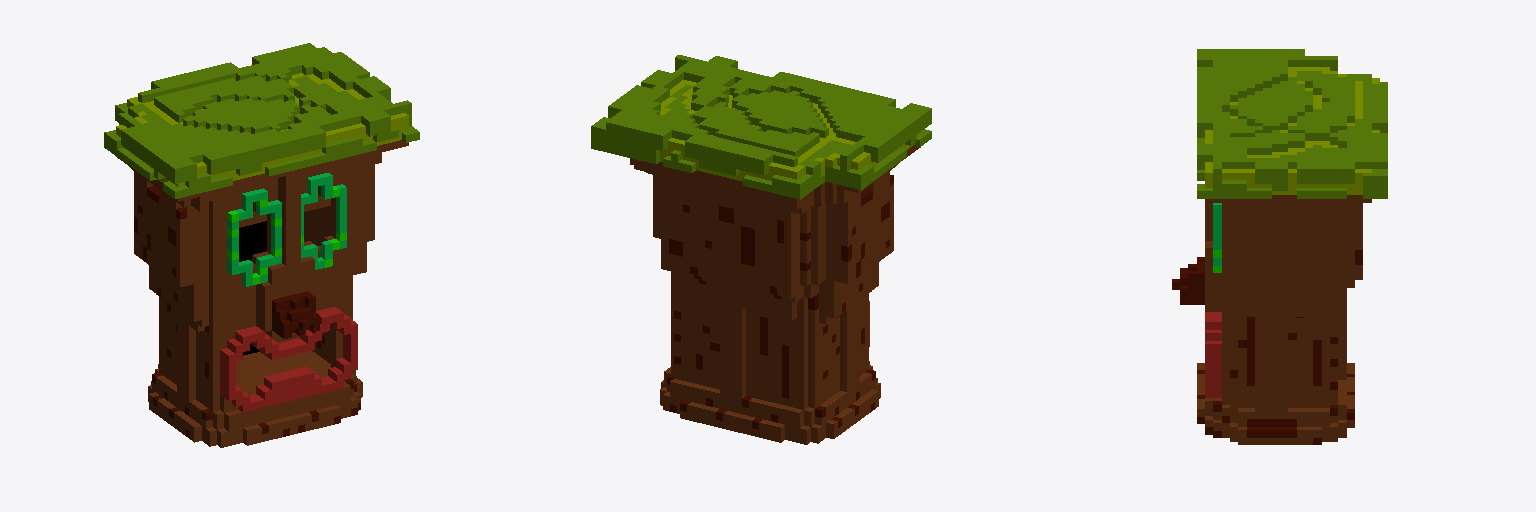
3 views of the same model, side by side, from view 1: azimuth 30°, elevation 25°; view 2: azimuth 150°, elevation 25°; view 3: azimuth 270°, elevation 25° (orthographic).
Visible parts, largest first — view 1: object 1; view 2: object 1; view 3: object 1.
Boxes of the visible parts, box(x1,y1,x2,y2) form: object 1: box(104, 43, 419, 447); object 1: box(591, 55, 931, 444); object 1: box(1172, 49, 1387, 444).
Size of the model in its own units: 3.4 by 3.9 by 2.6.
1 materials, 1 textured.